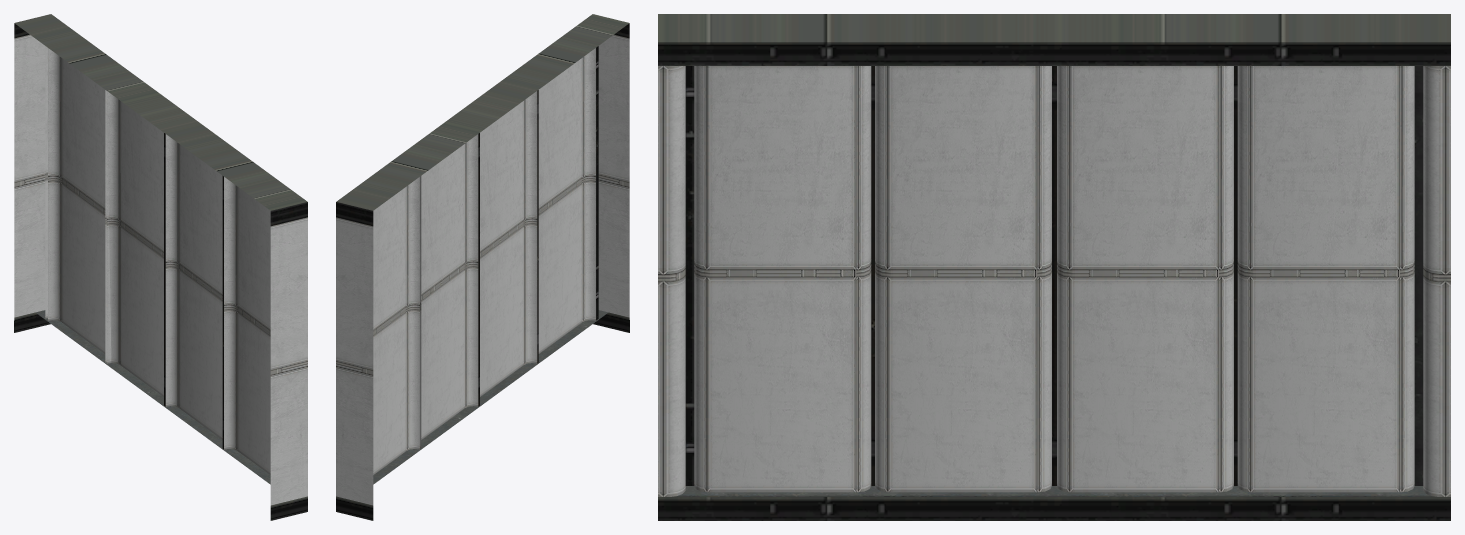
The model's file is Neon_Wall_6x4.FBX.
3 views of the same model, side by side, from view 1: azimuth 30°, elevation 25°; view 2: azimuth 150°, elevation 25°; view 3: azimuth 270°, elevation 25° (orthographic). The views are drawn at different scales.
Parts seen in each view (by area): view 1: Neon_Wall_6x4; view 2: Neon_Wall_6x4; view 3: Neon_Wall_6x4.
Boxes of the visible parts, left/top/right/bottom form: Neon_Wall_6x4: left=14, top=14, right=307, bottom=520; Neon_Wall_6x4: left=336, top=14, right=629, bottom=520; Neon_Wall_6x4: left=658, top=14, right=1450, bottom=520.
Size of the model in its own units: 0.5001 by 4 by 6.
